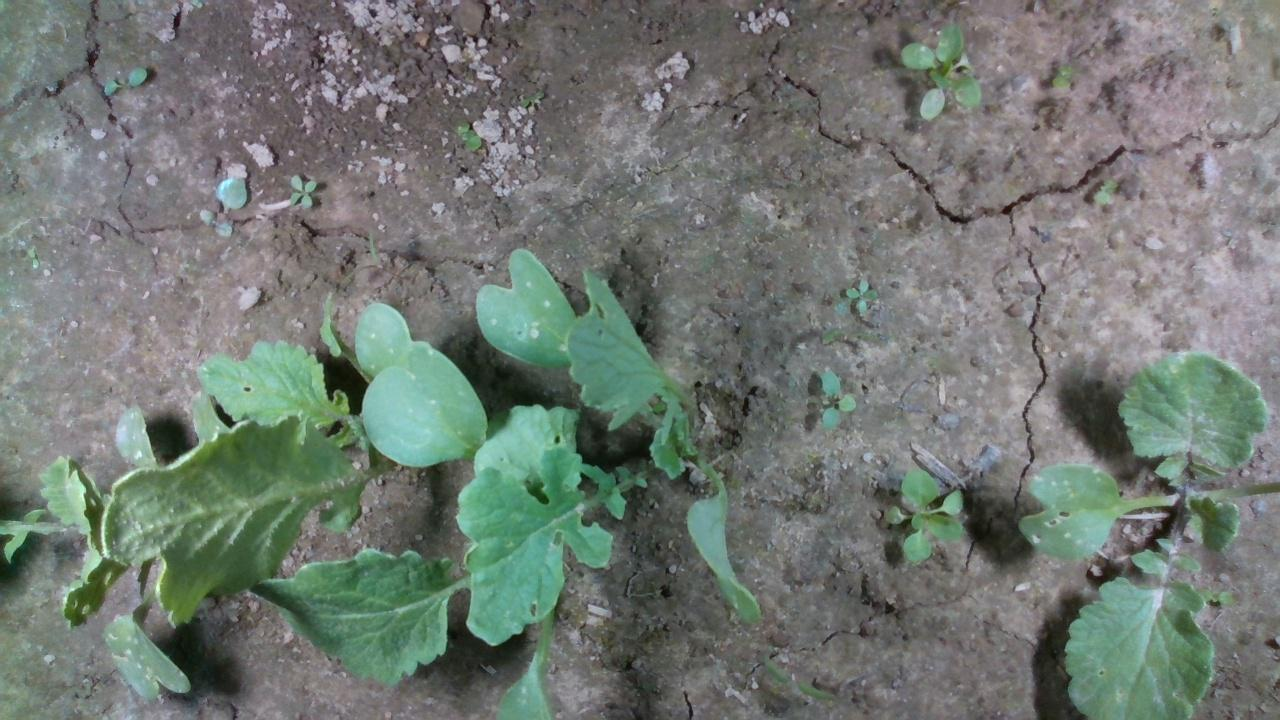weed: (809, 359, 857, 428), (834, 271, 877, 321), (92, 70, 157, 95), (281, 173, 317, 207), (443, 123, 491, 148)
